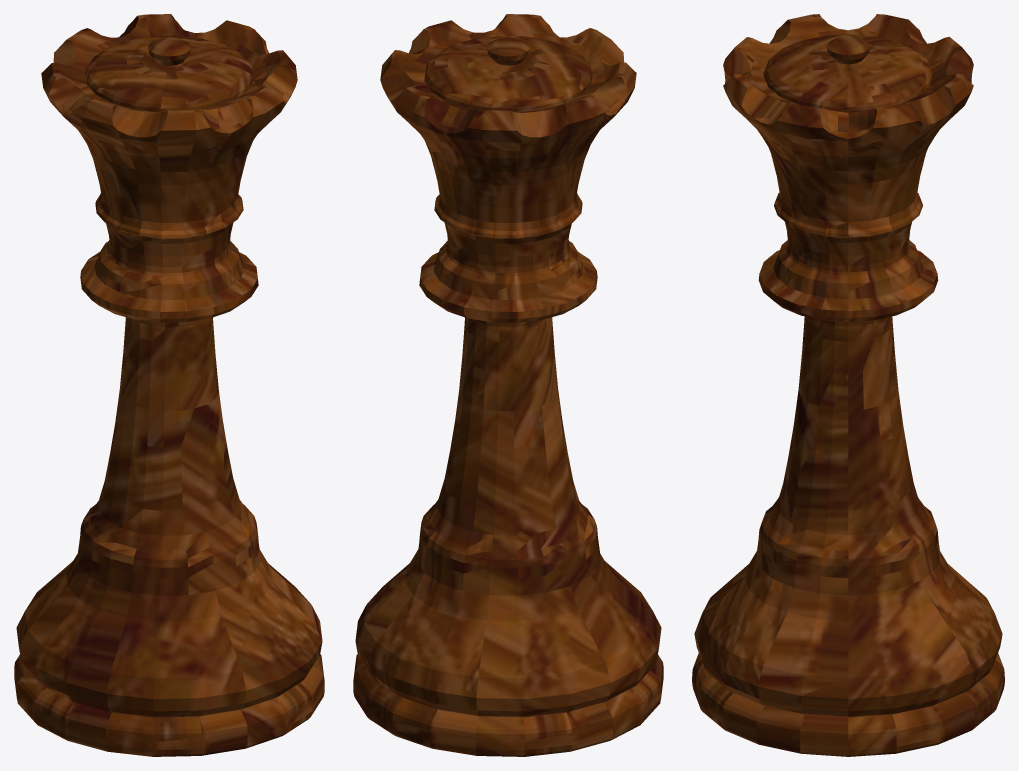
File: queen_2.obj
The picture shows the model from 3 angles, left to right: view 1: azimuth 30°, elevation 25°; view 2: azimuth 150°, elevation 25°; view 3: azimuth 270°, elevation 25°; orthographic projection.
Parts seen in each view (by area): view 1: REGINA01; view 2: REGINA01; view 3: REGINA01.
Part boxes in pixels (left/top/right/bottom): REGINA01: left=14, top=14, right=324, bottom=756; REGINA01: left=353, top=14, right=663, bottom=756; REGINA01: left=692, top=14, right=1004, bottom=756.
Bounding box in the file's own units: 93.05 × 215 × 93.05.
1 material, 1 textured.
